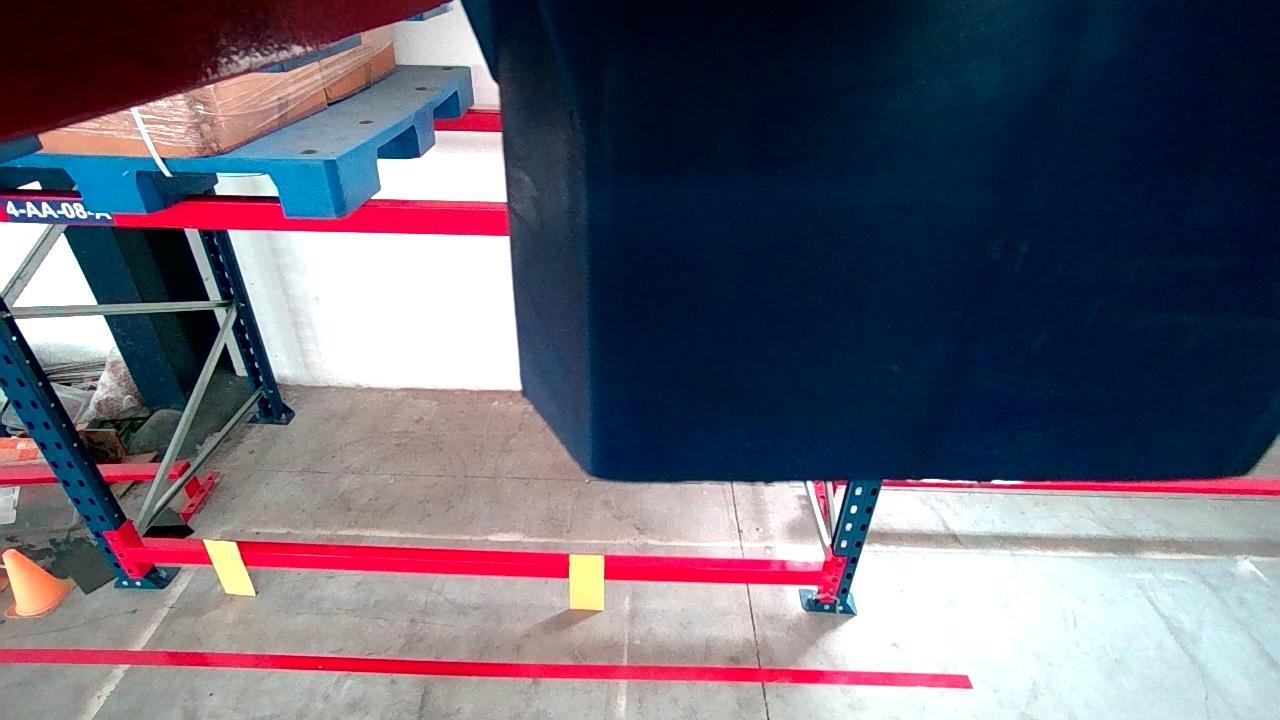h_rack: (130, 547, 822, 585), (3, 197, 508, 237)
orange_strip: (205, 540, 252, 592), (571, 552, 603, 606)
small_pallet: (2, 159, 339, 215)
